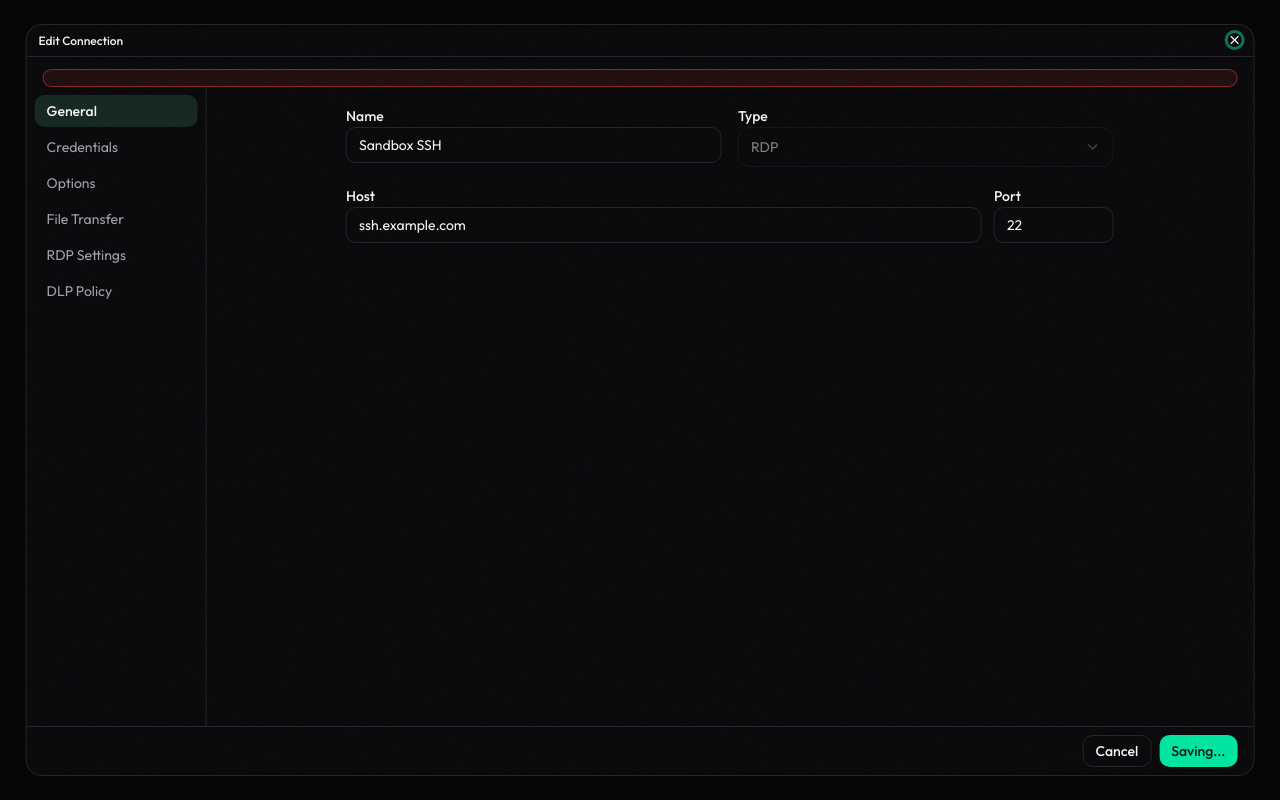
Scenario: ConnectionDialog › shows the file transfer section for RDP with retention defaulted off
Click the button "File Transfer": (116, 219) x1=35 y1=203 x2=198 y2=235
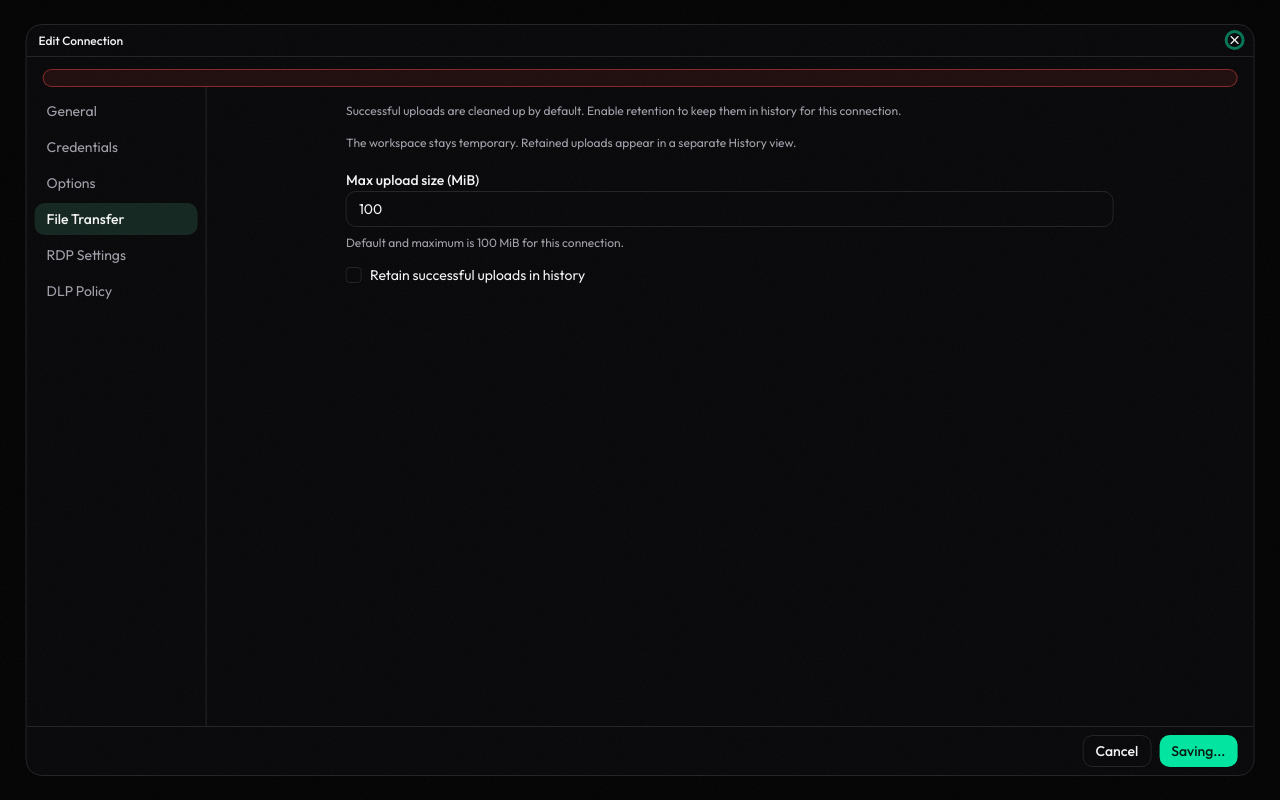
Expected: the checkbox named "Retain successful uploads in history" is not checked, x1=346 y1=267 x2=362 y2=283
